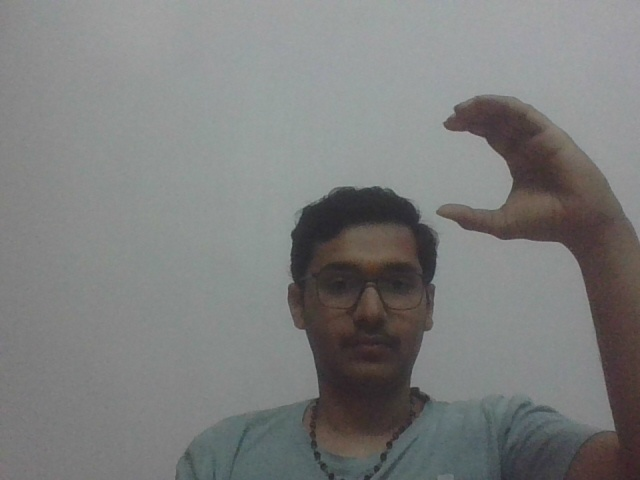C: (435, 91, 630, 248)
